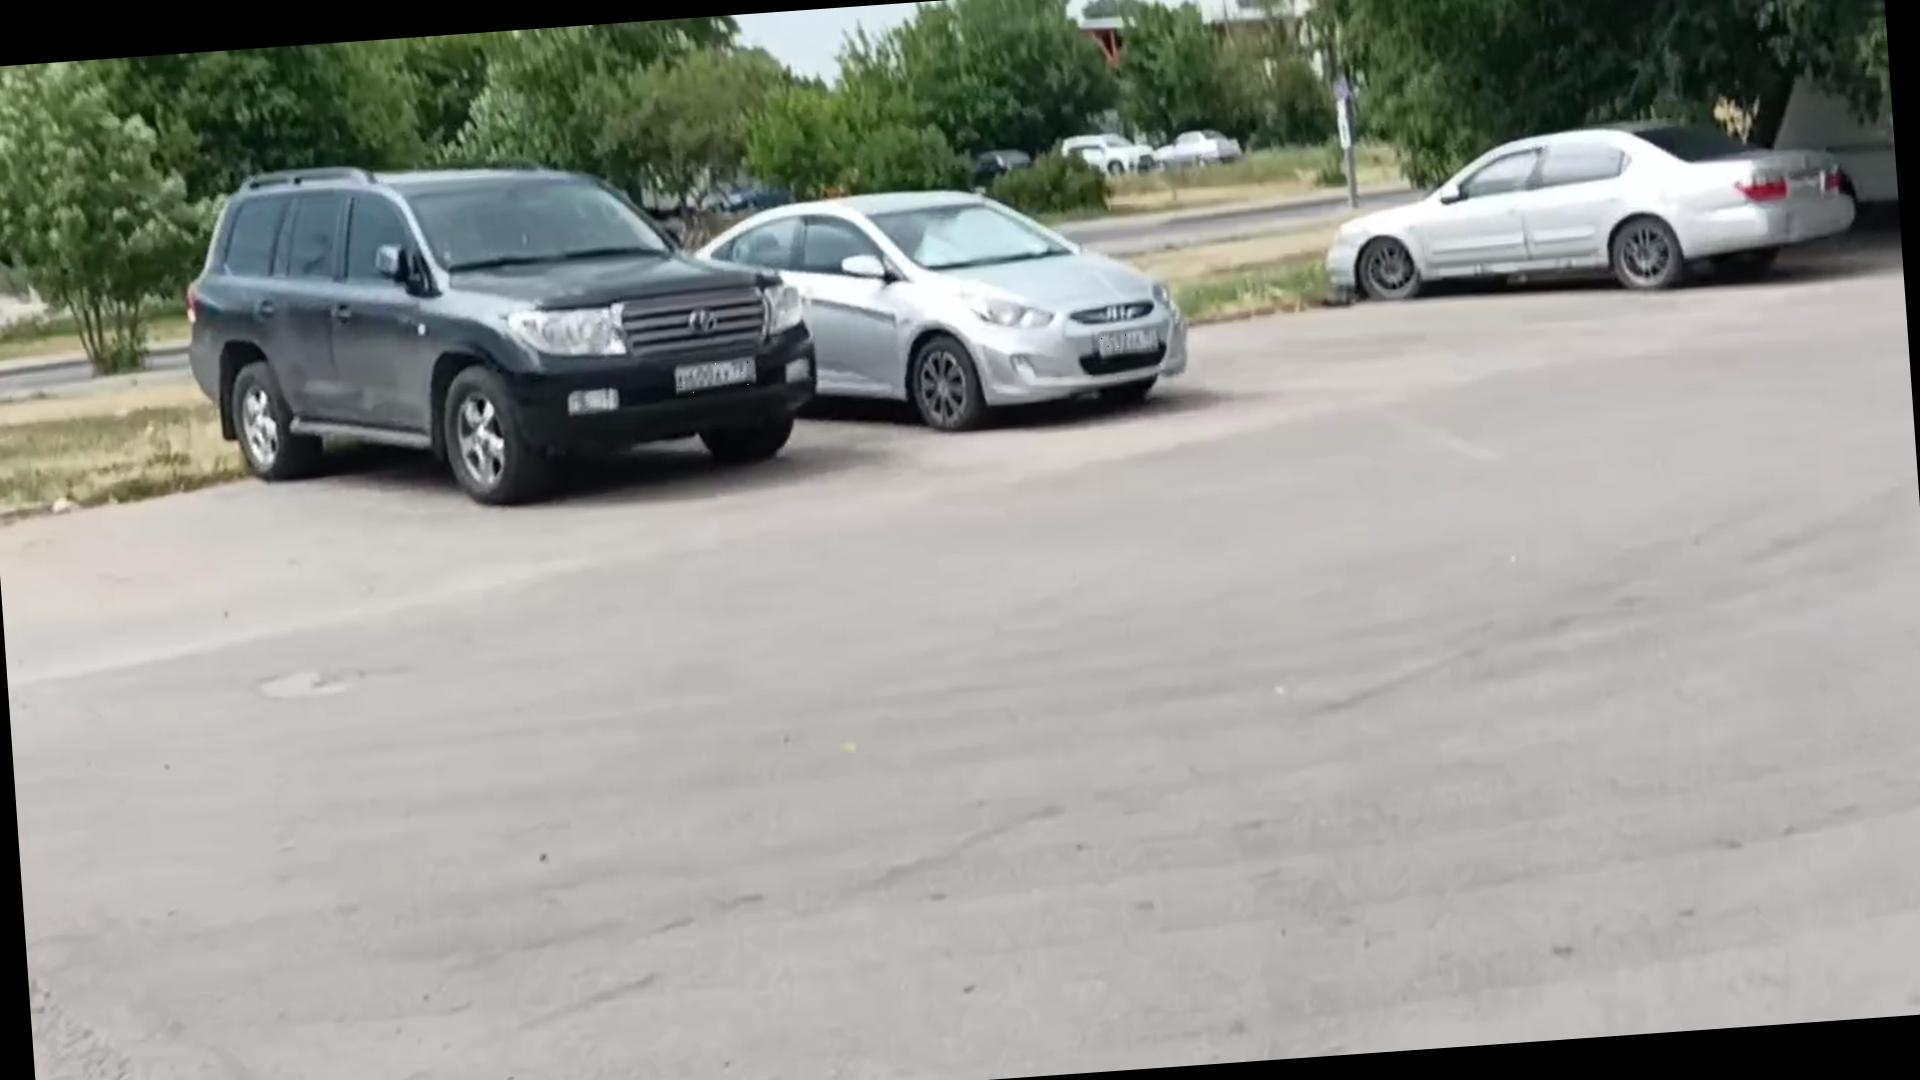plate: (678, 360, 756, 396), (1101, 329, 1162, 355)
